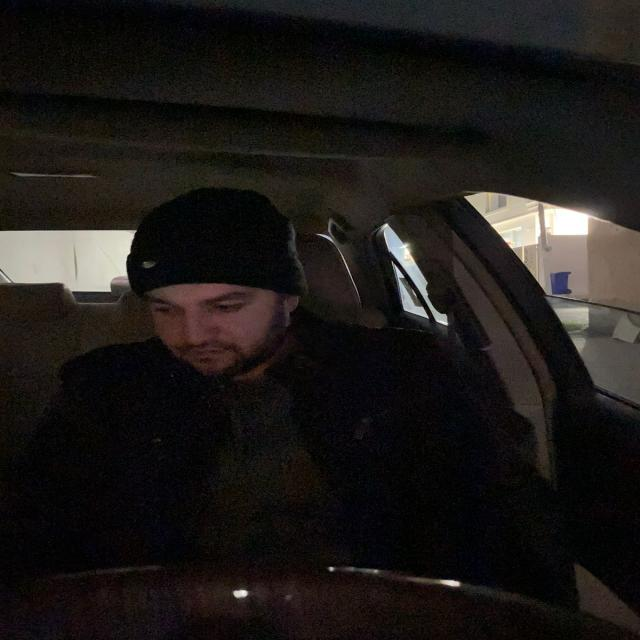person: (118, 196, 314, 377)
